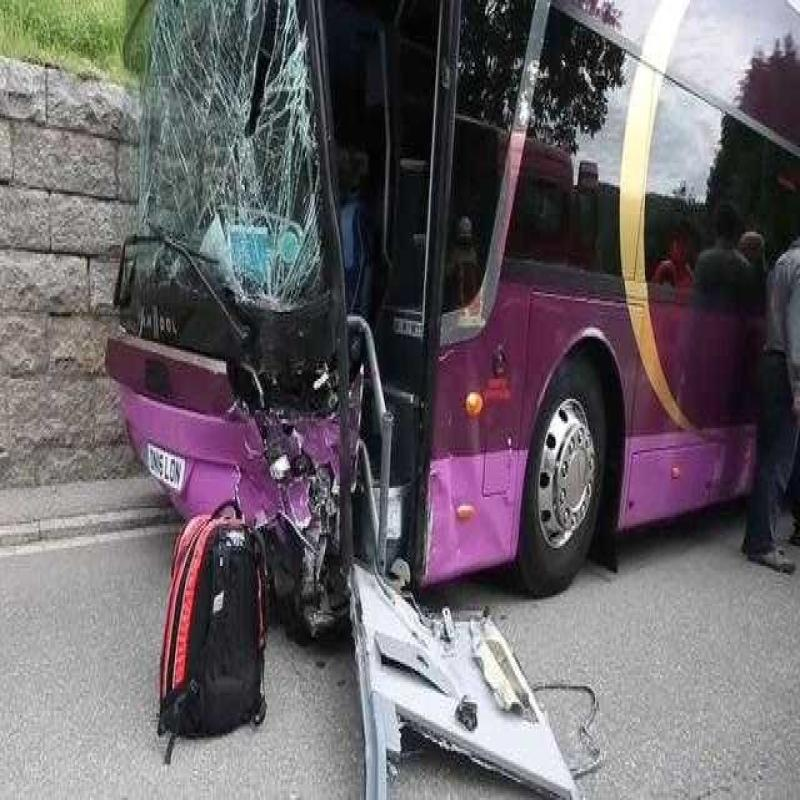bus: (111, 0, 791, 644)
